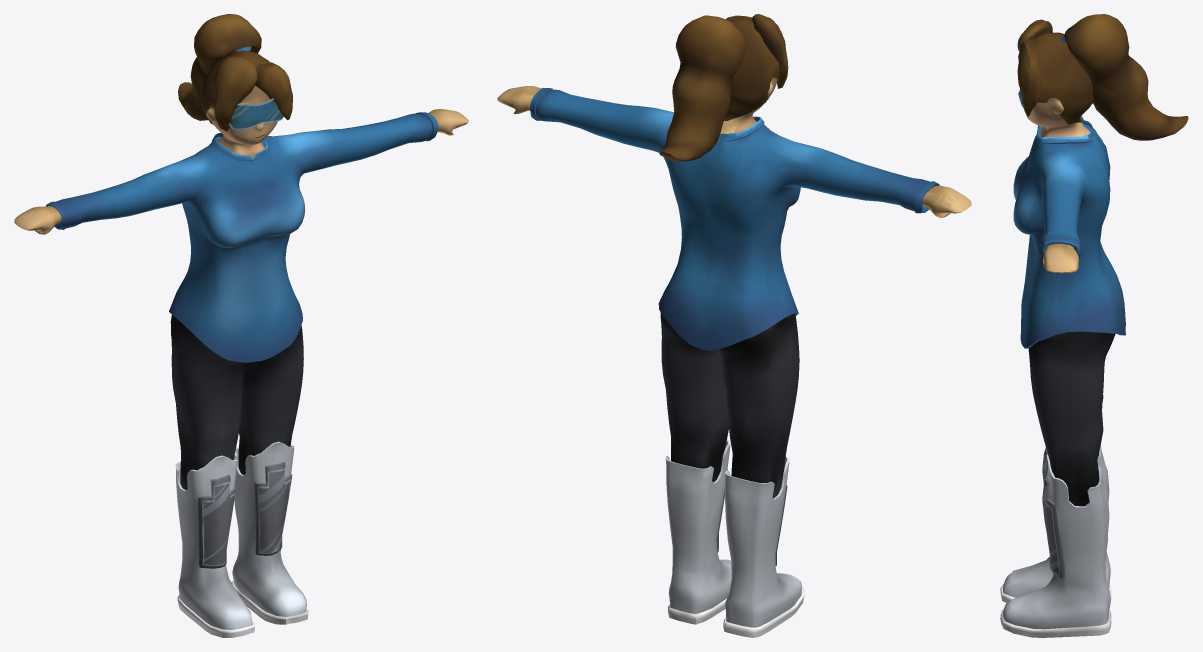
File: character2.obj
3 renders of one model, left to right at view 1: azimuth 30°, elevation 25°; view 2: azimuth 150°, elevation 25°; view 3: azimuth 270°, elevation 25°, orthographic. The views are drawn at different scales.
Visible parts, largest first — view 1: Cube.000_Cube.018; view 2: Cube.000_Cube.018; view 3: Cube.000_Cube.018.
Boxes of the visible parts, x1,y1,x2,y2 form: Cube.000_Cube.018: [14, 14, 468, 637]; Cube.000_Cube.018: [497, 14, 971, 637]; Cube.000_Cube.018: [1000, 14, 1188, 637].
Size of the model in its own units: 5.48 by 6.81 by 1.93.
